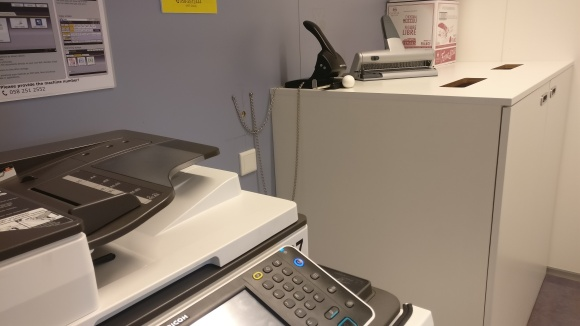egg: (341, 74, 356, 89)
